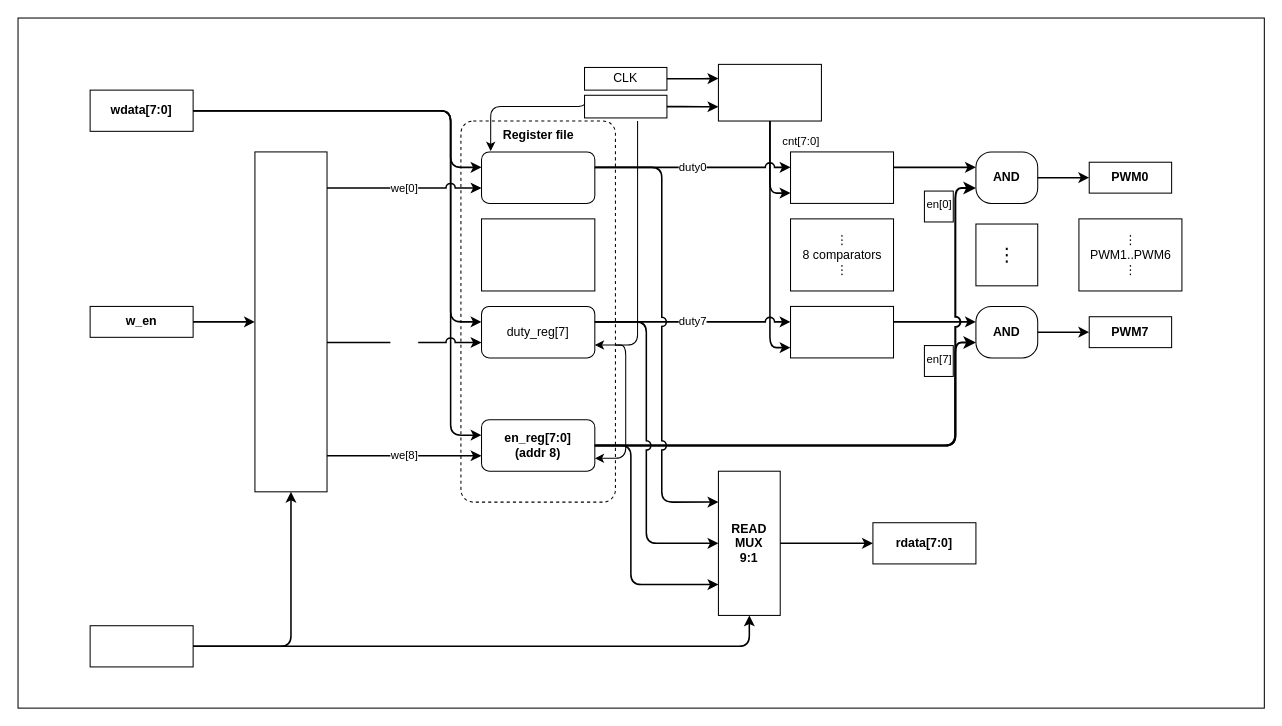
The diagram is 1282 pixels wide and 726 high, and some of its shapes have lost their labels. The shapes that lost their labels are listed below. From the top down, each one's box as (x1, y1, x2, y2) in pixels, then its label:
(583, 94, 667, 118): arst_n
(717, 63, 821, 121): Counter 8-bit, free-run
(480, 151, 595, 203): duty_reg[0]
(789, 151, 894, 203): Comparator 0 cnt < duty0
(480, 218, 595, 291): ⋮ duty_reg[1..6] ⋮
(254, 151, 327, 492): DEMUX (sel = addr)
(789, 305, 894, 358): Comparator 7 cnt < duty7
(89, 625, 193, 667): addr[3:0]
